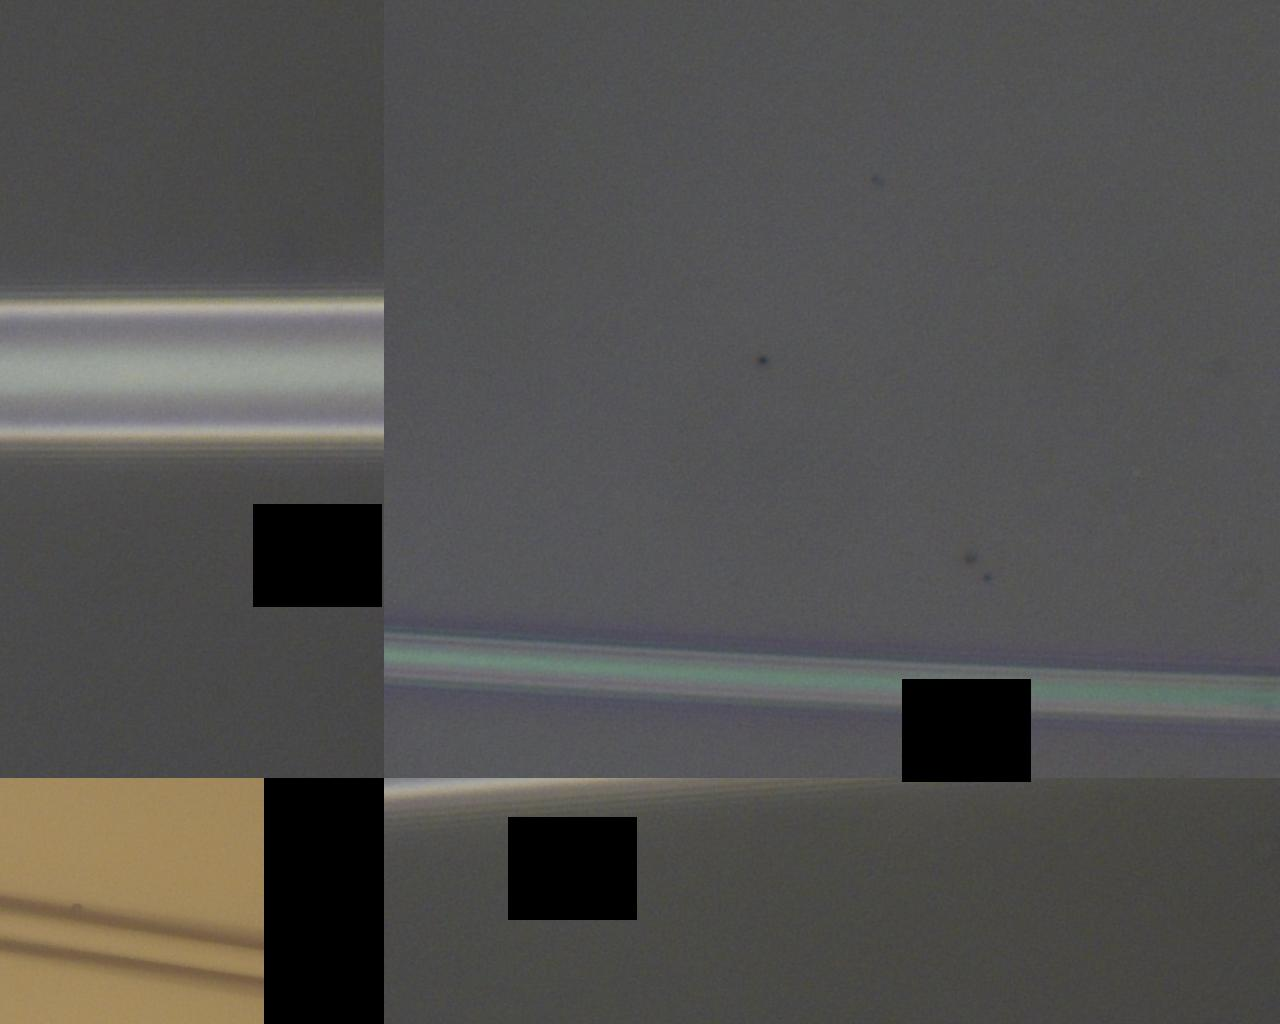fiber: (0, 65, 1280, 981)
